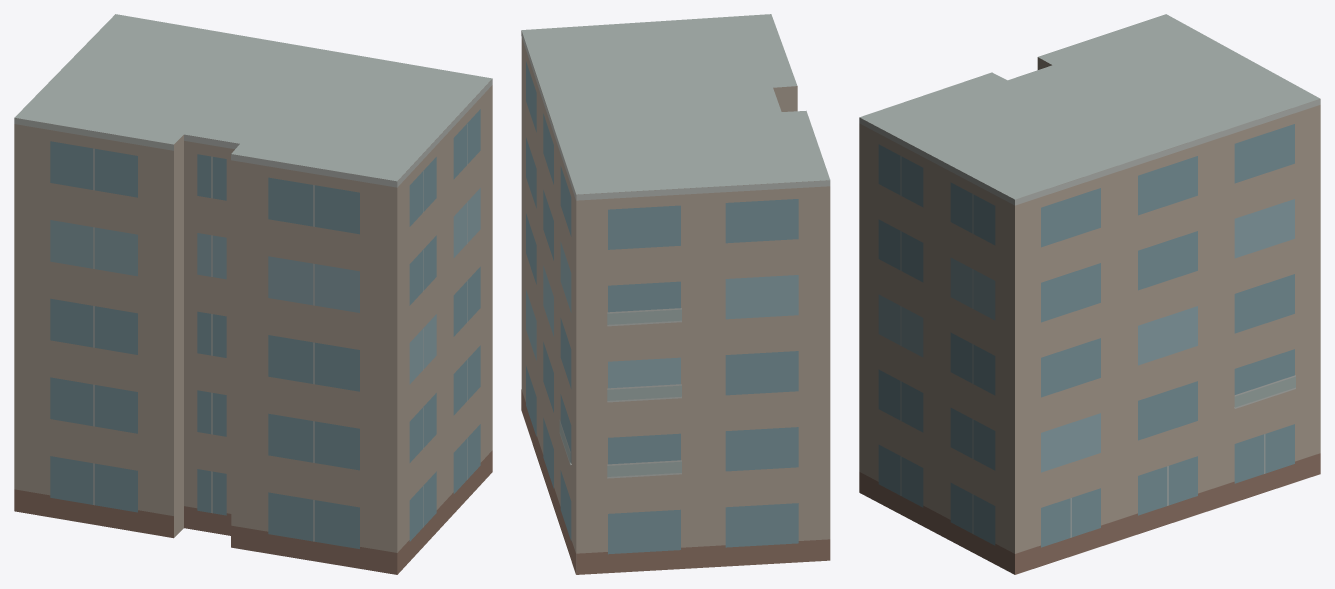
File: survey-upis-32746235.glb
3 views of the same model, side by side, from view 1: azimuth 30°, elevation 25°; view 2: azimuth 150°, elevation 25°; view 3: azimuth 270°, elevation 25° (orthographic). The views are drawn at different scales.
Parts seen in each view (by area): view 1: survey-upis-32746235.tmp; view 2: survey-upis-32746235.tmp; view 3: survey-upis-32746235.tmp.
Boxes of the visible parts, x1,y1,x2,y2 form: survey-upis-32746235.tmp: [14, 14, 492, 574]; survey-upis-32746235.tmp: [521, 14, 830, 574]; survey-upis-32746235.tmp: [859, 14, 1320, 574].
Bounding box in the file's own units: 16.18 × 15.25 × 17.
